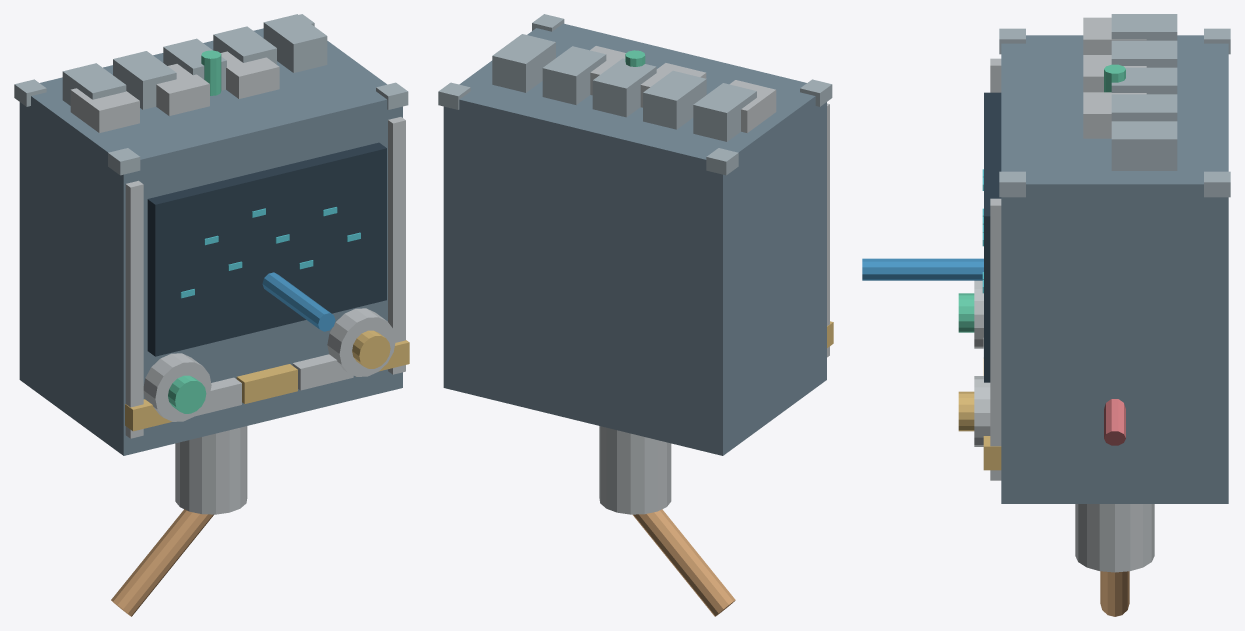
File: 33_L73_PolishingVibrationSensor.glb
3 views of the same model, side by side, from view 1: azimuth 30°, elevation 25°; view 2: azimuth 150°, elevation 25°; view 3: azimuth 270°, elevation 25° (orthographic). The views are drawn at different scales.
Visible parts, largest first — view 1: PolishingVibrationSensor_Node_0000, PolishingVibrationSensor_Node_0007, PolishingVibrationSensor_Node_0034, PolishingVibrationSensor_Node_0005, PolishingVibrationSensor_Node_0006, PolishingVibrationSensor_Node_0035, PolishingVibrationSensor_Node_0028, PolishingVibrationSensor_Node_0019, PolishingVibrationSensor_Node_0017, PolishingVibrationSensor_Node_0021, PolishingVibrationSensor_Node_0025, PolishingVibrationSensor_Node_0022 (+15 smaller); view 2: PolishingVibrationSensor_Node_0000, PolishingVibrationSensor_Node_0034, PolishingVibrationSensor_Node_0035, PolishingVibrationSensor_Node_0025, PolishingVibrationSensor_Node_0028, PolishingVibrationSensor_Node_0027, PolishingVibrationSensor_Node_0024, PolishingVibrationSensor_Node_0026, PolishingVibrationSensor_Node_0021, PolishingVibrationSensor_Node_0001, PolishingVibrationSensor_Node_0005, PolishingVibrationSensor_Node_0022 (+3 smaller); view 3: PolishingVibrationSensor_Node_0000, PolishingVibrationSensor_Node_0034, PolishingVibrationSensor_Node_0028, PolishingVibrationSensor_Node_0007, PolishingVibrationSensor_Node_0006, PolishingVibrationSensor_Node_0038, PolishingVibrationSensor_Node_0027, PolishingVibrationSensor_Node_0025, PolishingVibrationSensor_Node_0024, PolishingVibrationSensor_Node_0026, PolishingVibrationSensor_Node_0023, PolishingVibrationSensor_Node_0035 (+10 smaller).
Boxes of the visible parts, <box> form: PolishingVibrationSensor_Node_0000: <box>19,28,402,455</box>; PolishingVibrationSensor_Node_0007: <box>147,142,386,356</box>; PolishingVibrationSensor_Node_0034: <box>175,426,247,514</box>; PolishingVibrationSensor_Node_0005: <box>125,180,143,438</box>; PolishingVibrationSensor_Node_0006: <box>388,117,405,374</box>; PolishingVibrationSensor_Node_0035: <box>111,509,213,616</box>; PolishingVibrationSensor_Node_0028: <box>263,14,327,72</box>; PolishingVibrationSensor_Node_0019: <box>327,308,395,376</box>; PolishingVibrationSensor_Node_0017: <box>143,353,211,421</box>; PolishingVibrationSensor_Node_0021: <box>70,88,139,132</box>; PolishingVibrationSensor_Node_0025: <box>113,51,176,109</box>; PolishingVibrationSensor_Node_0022: <box>156,64,209,115</box>; PolishingVibrationSensor_Node_0000: <box>443,23,826,455</box>; PolishingVibrationSensor_Node_0034: <box>599,426,671,514</box>; PolishingVibrationSensor_Node_0035: <box>633,509,735,616</box>; PolishingVibrationSensor_Node_0025: <box>643,70,706,129</box>; PolishingVibrationSensor_Node_0028: <box>492,34,555,92</box>; PolishingVibrationSensor_Node_0027: <box>542,46,606,104</box>; PolishingVibrationSensor_Node_0024: <box>693,83,756,141</box>; PolishingVibrationSensor_Node_0026: <box>592,58,656,117</box>; PolishingVibrationSensor_Node_0021: <box>729,80,776,132</box>; PolishingVibrationSensor_Node_0001: <box>706,148,738,175</box>; PolishingVibrationSensor_Node_0005: <box>827,103,829,357</box>; PolishingVibrationSensor_Node_0022: <box>640,63,706,107</box>; PolishingVibrationSensor_Node_0000: <box>1001,35,1228,503</box>; PolishingVibrationSensor_Node_0034: <box>1075,504,1154,572</box>; PolishingVibrationSensor_Node_0028: <box>1111,121,1177,170</box>; PolishingVibrationSensor_Node_0007: <box>984,92,1001,382</box>; PolishingVibrationSensor_Node_0006: <box>990,198,1001,480</box>; PolishingVibrationSensor_Node_0038: <box>862,258,983,280</box>; PolishingVibrationSensor_Node_0027: <box>1111,94,1177,121</box>; PolishingVibrationSensor_Node_0025: <box>1111,40,1177,67</box>; PolishingVibrationSensor_Node_0024: <box>1111,14,1177,40</box>; PolishingVibrationSensor_Node_0026: <box>1111,67,1177,94</box>; PolishingVibrationSensor_Node_0023: <box>1083,92,1146,138</box>; PolishingVibrationSensor_Node_0035: <box>1100,571,1129,616</box>.
Size of the model in its own units: 0.5053 by 0.8264 by 0.4666.
